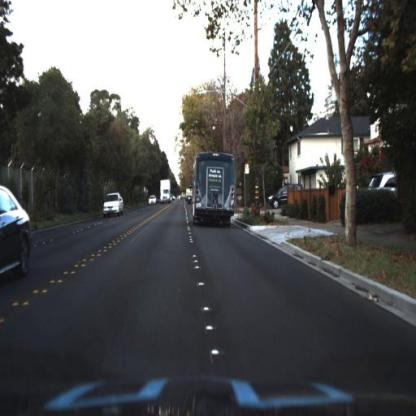car: (0, 184, 33, 286), (266, 180, 302, 211), (100, 192, 124, 218)
truck: (188, 152, 236, 233)
